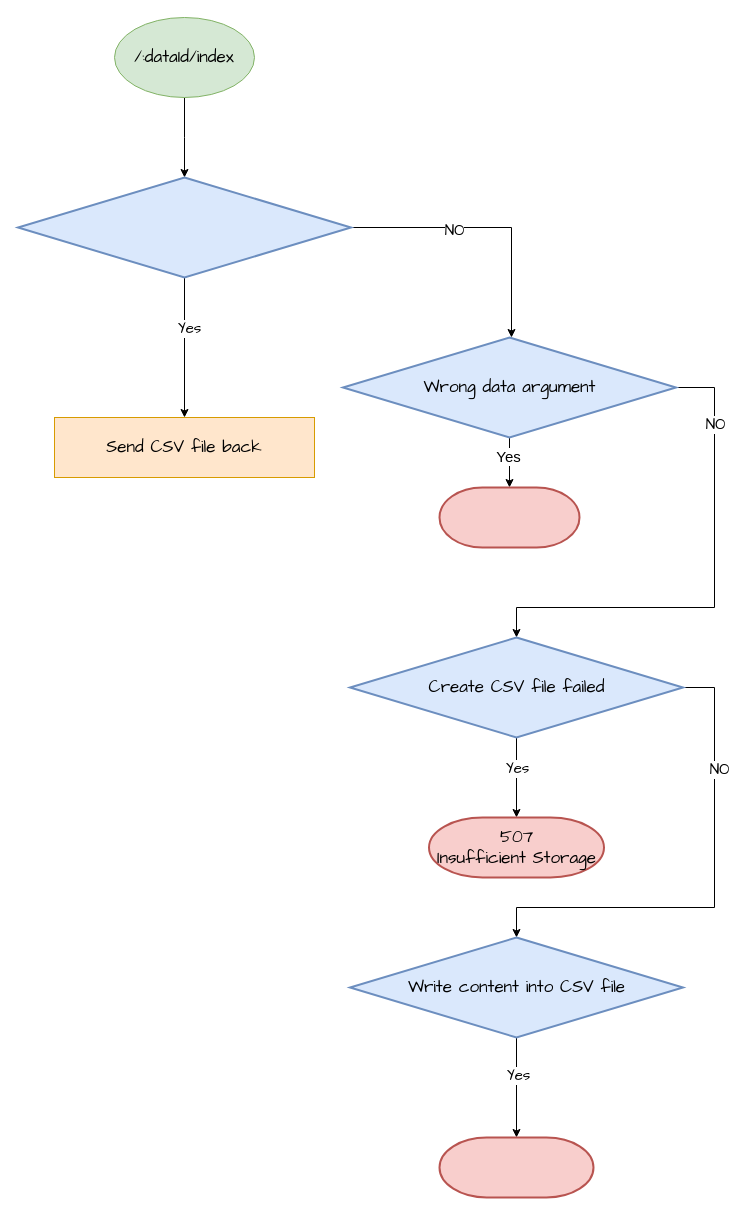
Image size: 746x1216. Some labels were removed from this diagram. The shapes that lost their labels are listed below. From the top down, each one's centre as x and y in pixels, then its label:
At pixel 184 227: "'createCsv' method succeed ?".
At pixel 509 517: "400 Bad Request".
At pixel 516 1167: "500 Inter Server Error".
